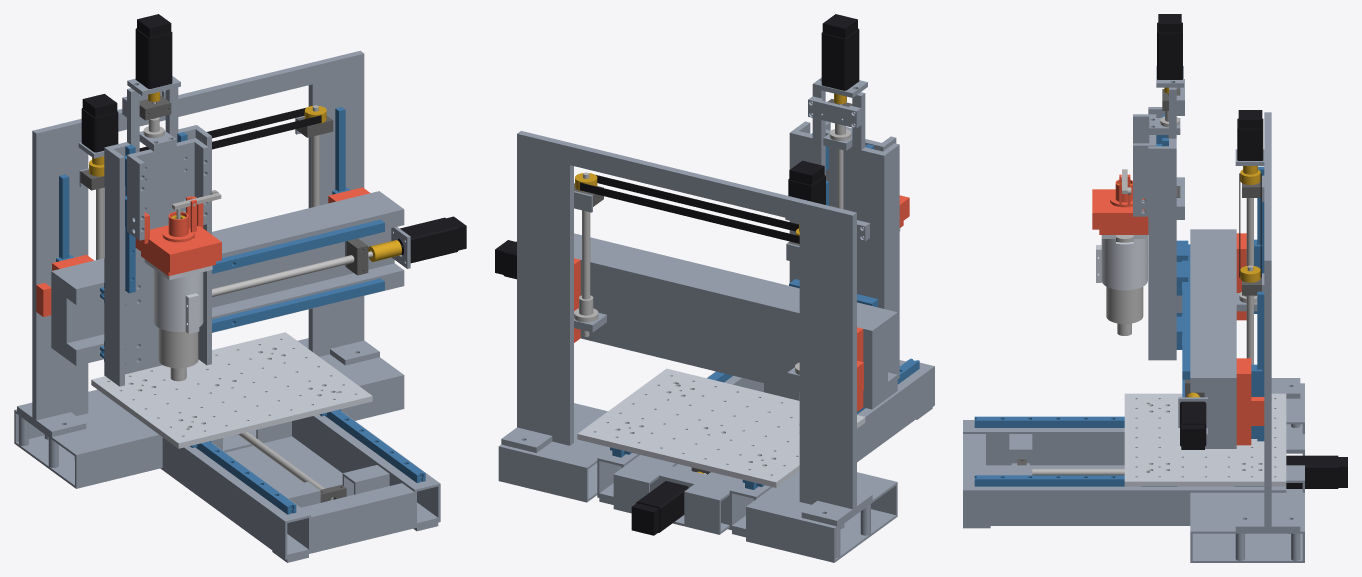
Rendered from pro_home.glb.
3 views of the same model, side by side, from view 1: azimuth 30°, elevation 25°; view 2: azimuth 150°, elevation 25°; view 3: azimuth 270°, elevation 25° (orthographic). The views are drawn at different scales.
Visible parts, largest first — view 1: beam, table, frame_cross_rear, x_carriage, upright_L, upright_R, frame_longeron_L, z_slide, lift_tie, frame_cross_front, frame_longeron_R, frame_bottom (+23 smaller); view 2: beam, upright_L, table, upright_R, frame_cross_rear, x_carriage, lift_tie, frame_longeron_L, z_motor, y_motor, lift_belt_b, frame_cross_end (+7 smaller); view 3: table, beam, frame_longeron_R, frame_cross_rear, x_carriage, frame_longeron_L, upright_R, head_mount, y_rail_R, y_rail_L, z_slide, y_motor (+18 smaller).
Boxes of the visible parts, box(x1,y1,x2,y2) form: beam: box(51, 191, 410, 365); table: box(91, 332, 372, 448); frame_cross_rear: box(14, 338, 404, 488); x_carriage: box(104, 87, 211, 386); upright_L: box(17, 140, 88, 436); upright_R: box(308, 72, 379, 365); frame_longeron_L: box(162, 437, 310, 557); z_slide: box(127, 138, 208, 240); lift_tie: box(32, 50, 364, 151); frame_cross_front: box(301, 483, 414, 551); frame_longeron_R: box(292, 411, 440, 525); frame_bottom: box(160, 436, 440, 562); beam: box(574, 233, 897, 409); upright_L: box(799, 221, 872, 526); table: box(577, 368, 865, 487); upright_R: box(501, 152, 573, 452); frame_cross_rear: box(498, 403, 897, 562); x_carriage: box(789, 84, 899, 378); lift_tie: box(517, 131, 856, 233); frame_longeron_L: box(729, 360, 934, 531); z_motor: box(821, 14, 859, 90); y_motor: box(631, 481, 688, 535); lift_belt_b: box(580, 182, 799, 243); frame_cross_end: box(624, 457, 739, 524); table: box(1124, 393, 1286, 486); beam: box(1178, 229, 1236, 448); frame_longeron_R: box(963, 478, 1286, 523); frame_cross_rear: box(1190, 383, 1304, 562); x_carriage: box(1148, 87, 1176, 360); frame_longeron_L: box(963, 420, 1124, 465); upright_R: box(1235, 277, 1300, 531); head_mount: box(1096, 235, 1147, 290); y_rail_R: box(974, 475, 1124, 486); y_rail_L: box(974, 416, 1124, 427); z_slide: box(1133, 114, 1156, 216); y_motor: box(1286, 455, 1347, 488).
Size of the model in its own units: 893 by 1030 by 833.
